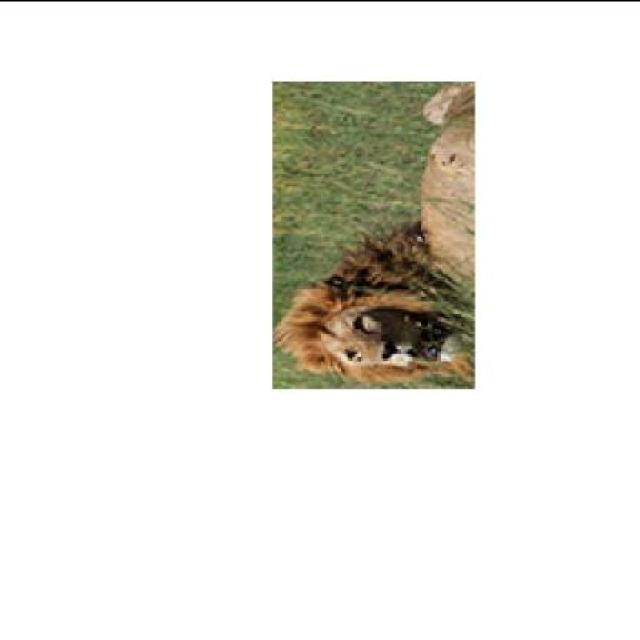Lion: (260, 234, 482, 391)
